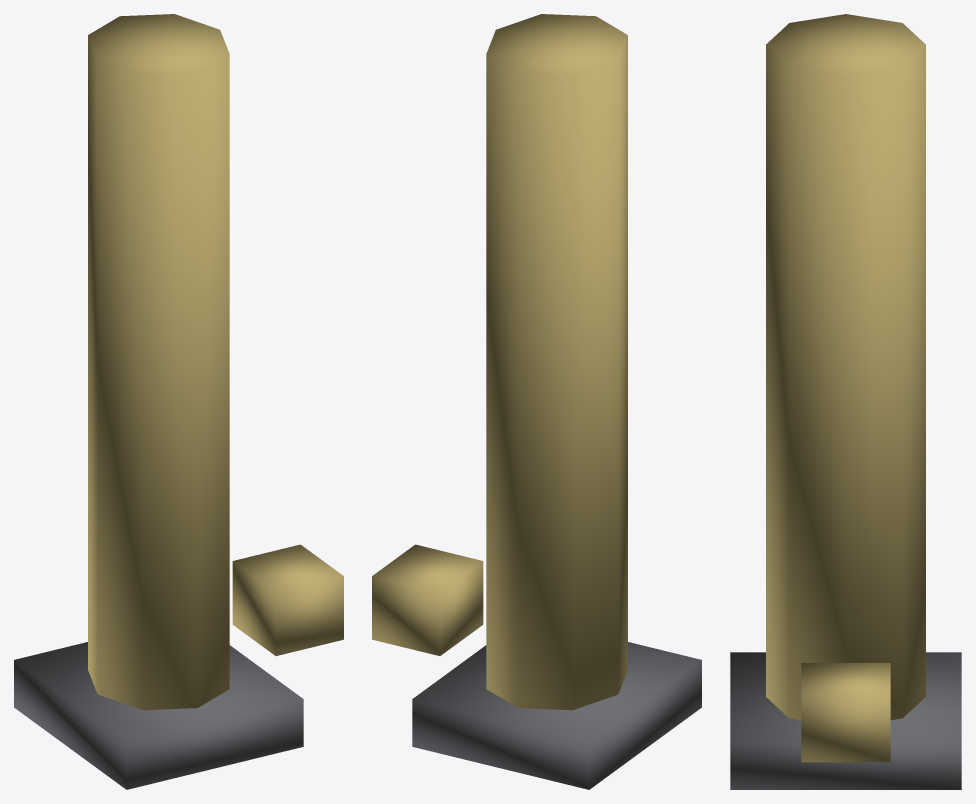
File: bollard_05.glb
3 views of the same model, side by side, from view 1: azimuth 30°, elevation 25°; view 2: azimuth 150°, elevation 25°; view 3: azimuth 270°, elevation 25° (orthographic). The views are drawn at different scales.
Visible parts, largest first — view 1: world; view 2: world; view 3: world.
Boxes of the visible parts, x1,y1,x2,y2 form: world: [14, 14, 343, 789]; world: [372, 14, 701, 789]; world: [730, 14, 961, 789].
Size of the model in its own units: 0.3256 by 0.8428 by 0.2522.
